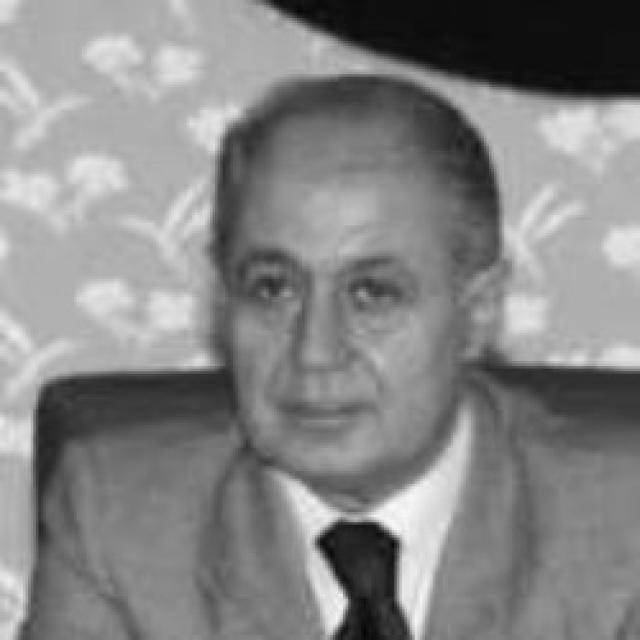real: (224, 112, 467, 476), (245, 261, 418, 317)
